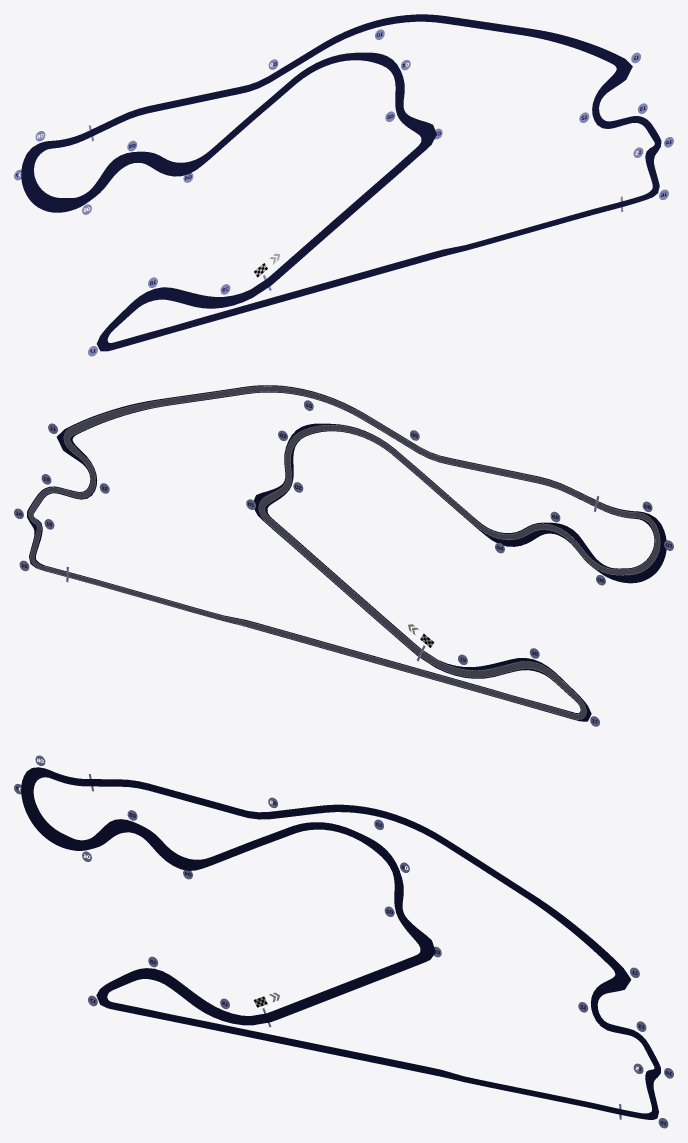
File: miami.glb
The picture shows the model from 3 angles, top to bottom: view 1: azimuth 30°, elevation 25°; view 2: azimuth 150°, elevation 25°; view 3: azimuth 330°, elevation 25°; orthographic projection.
Visible parts, largest first — view 1: runoff; view 2: tracklimit, runoff, whiteline; view 3: runoff.
Part boxes in pixels (x1,y1,x2,y2): runoff: (21,14,661,351); tracklimit: (28,386,660,719); runoff: (27,385,666,721); whiteline: (28,386,660,719); runoff: (21,767,660,1119).
Bounding box in the file's own units: 1579 × 609 × 3.88.
